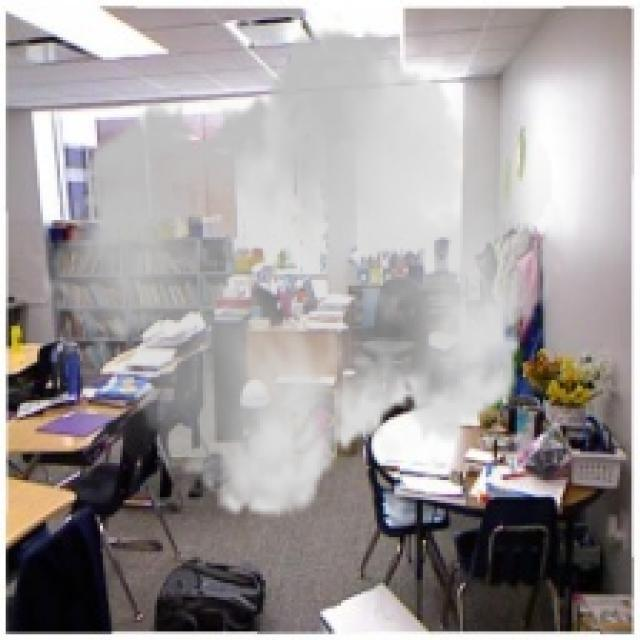Smoke: (40, 9, 563, 538)
